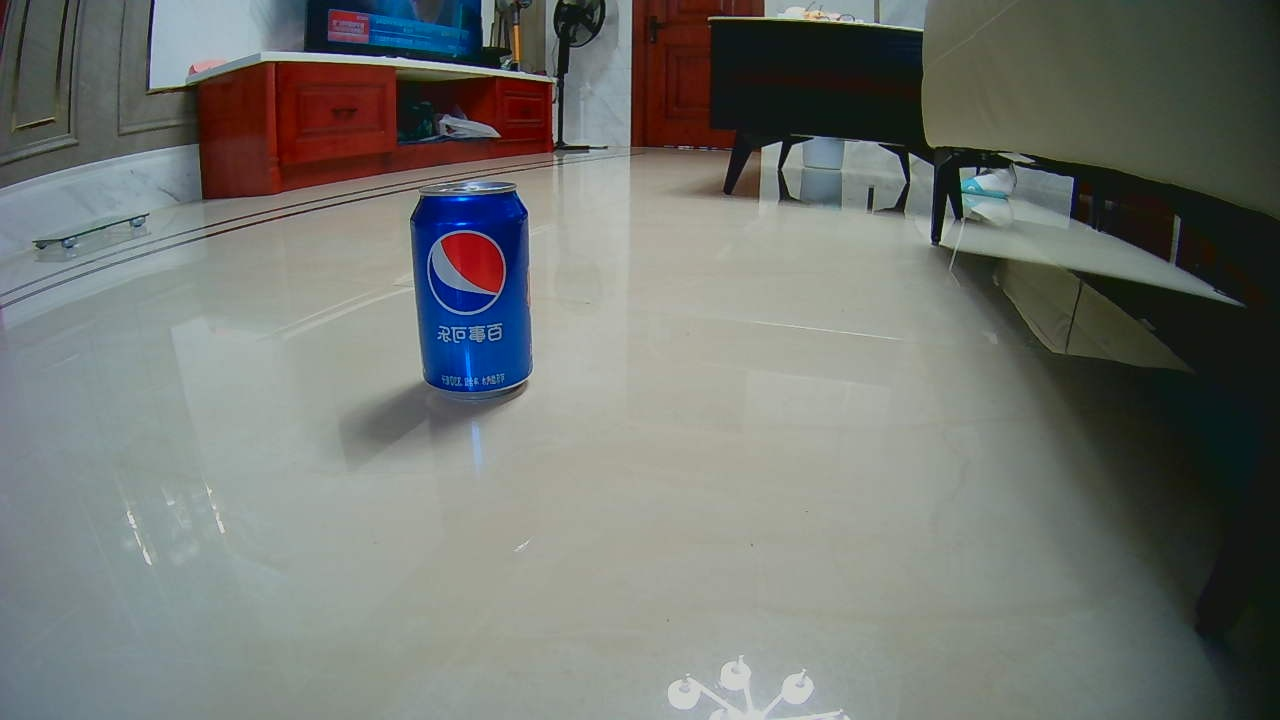pessi: (413, 183, 535, 401)
